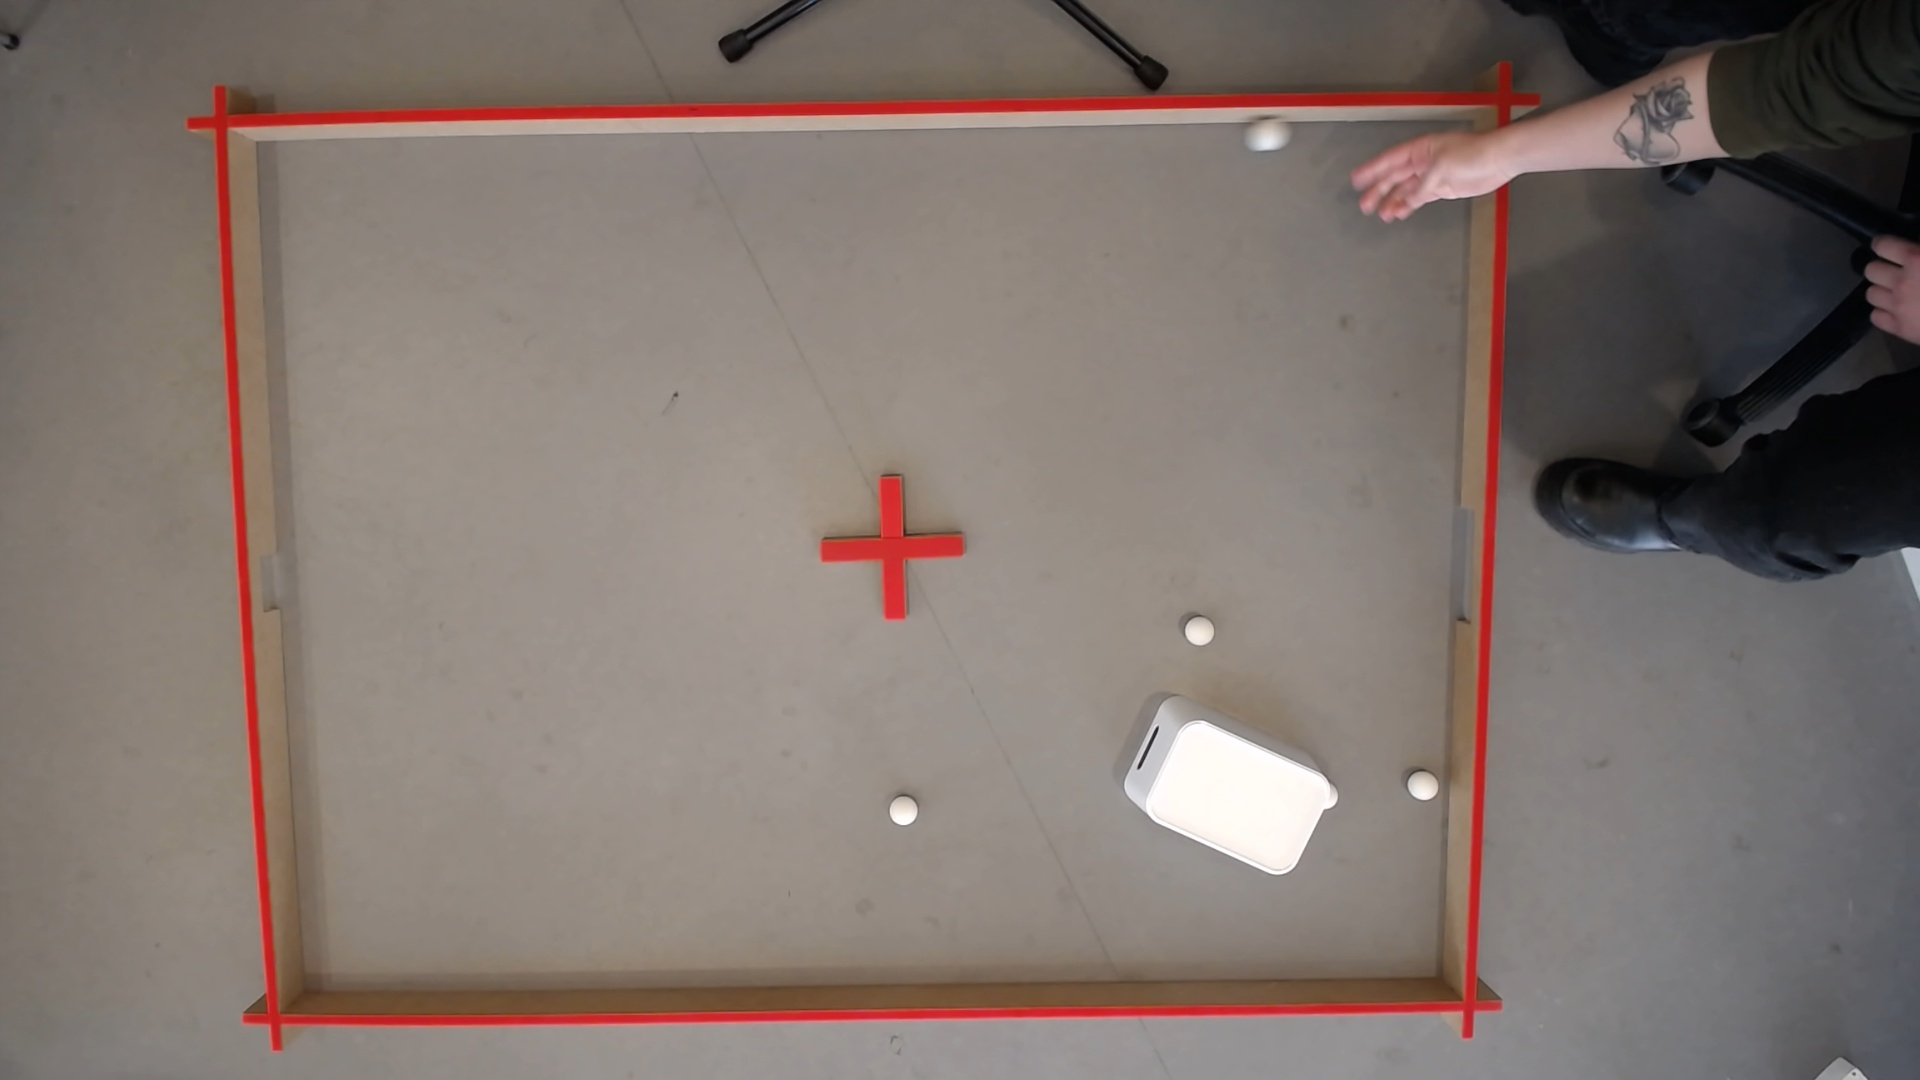balls: (1116, 700, 1344, 886), (1422, 152, 1523, 206), (885, 796, 919, 828), (1180, 617, 1215, 649), (1250, 124, 1283, 154)
car: (1407, 777, 1437, 803)
